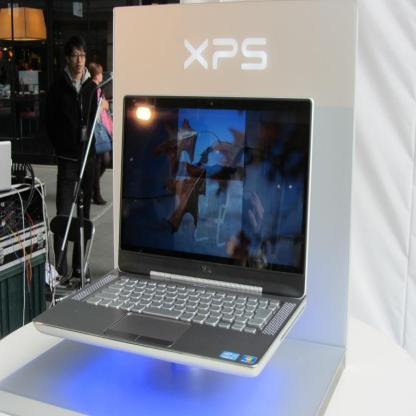board: (34, 96, 314, 378)
